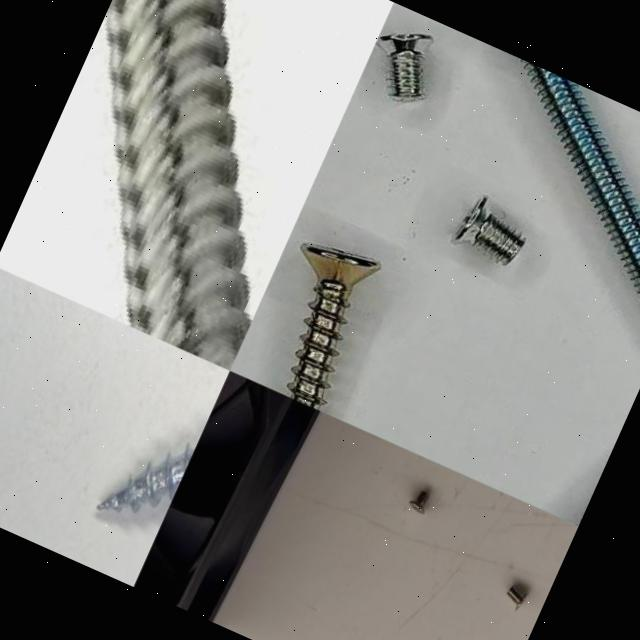Screw: (102, 0, 253, 371), (520, 59, 640, 296), (91, 343, 230, 540), (287, 243, 379, 410), (451, 196, 525, 265), (376, 32, 432, 102), (499, 578, 534, 616), (404, 484, 436, 520)
